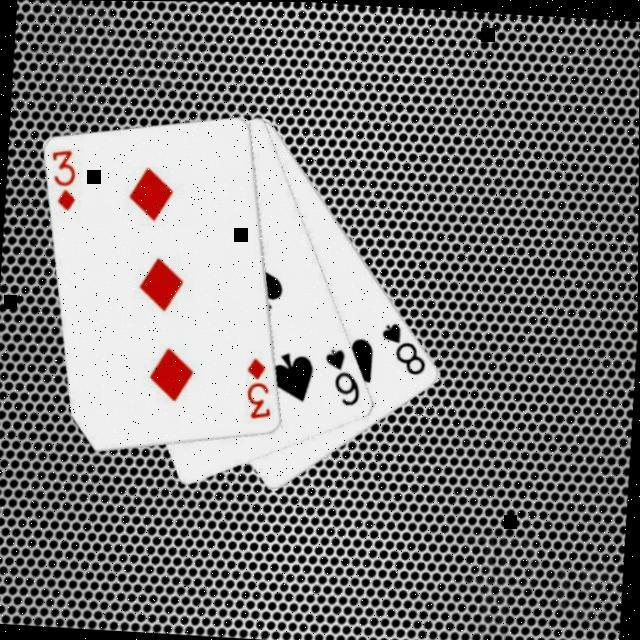3D: (241, 352, 277, 422), (45, 144, 79, 213)
6S: (320, 343, 364, 407)
8S: (375, 316, 430, 377)
